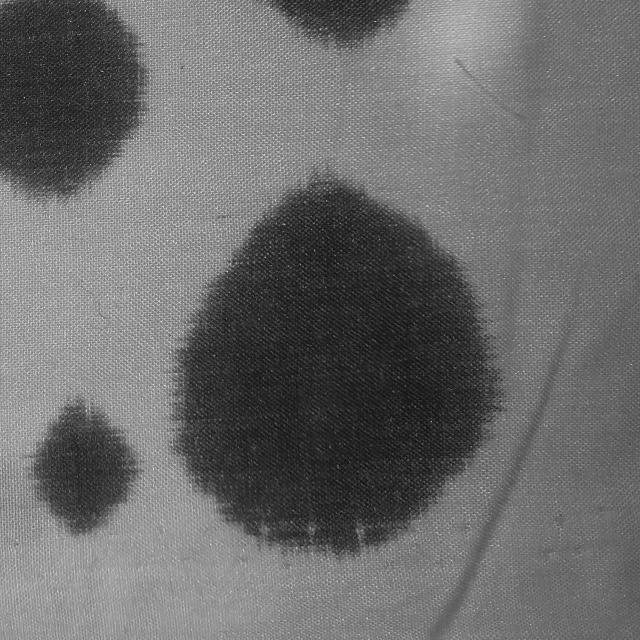Stain: (174, 175, 501, 553), (0, 0, 145, 196), (32, 398, 139, 535), (268, 0, 409, 47)
